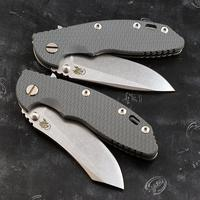knife: (15, 67, 153, 188)
